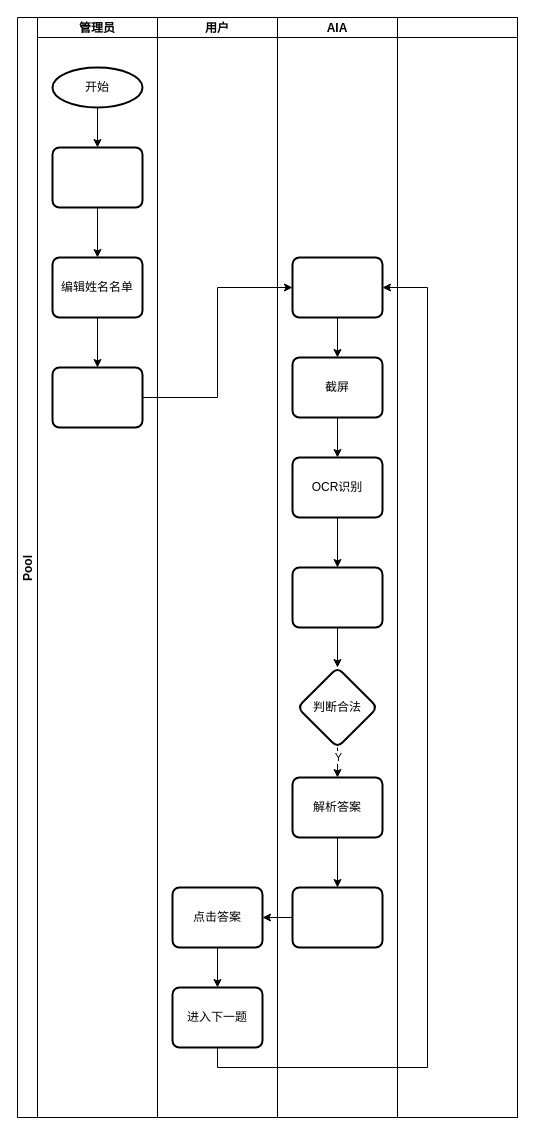
Image size: 535x1135. Some labels were removed from this diagram. Each missing label, with the centre of its shape:
"同步数据" goes at (x=337, y=287).
"启动程序" goes at (x=97, y=177).
"在屏幕上现实答案" goes at (x=337, y=917).
"第三方应用" goes at (x=457, y=567).
"编辑题库（xls格式" goes at (x=97, y=397).
"解析姓名" goes at (x=337, y=597).
